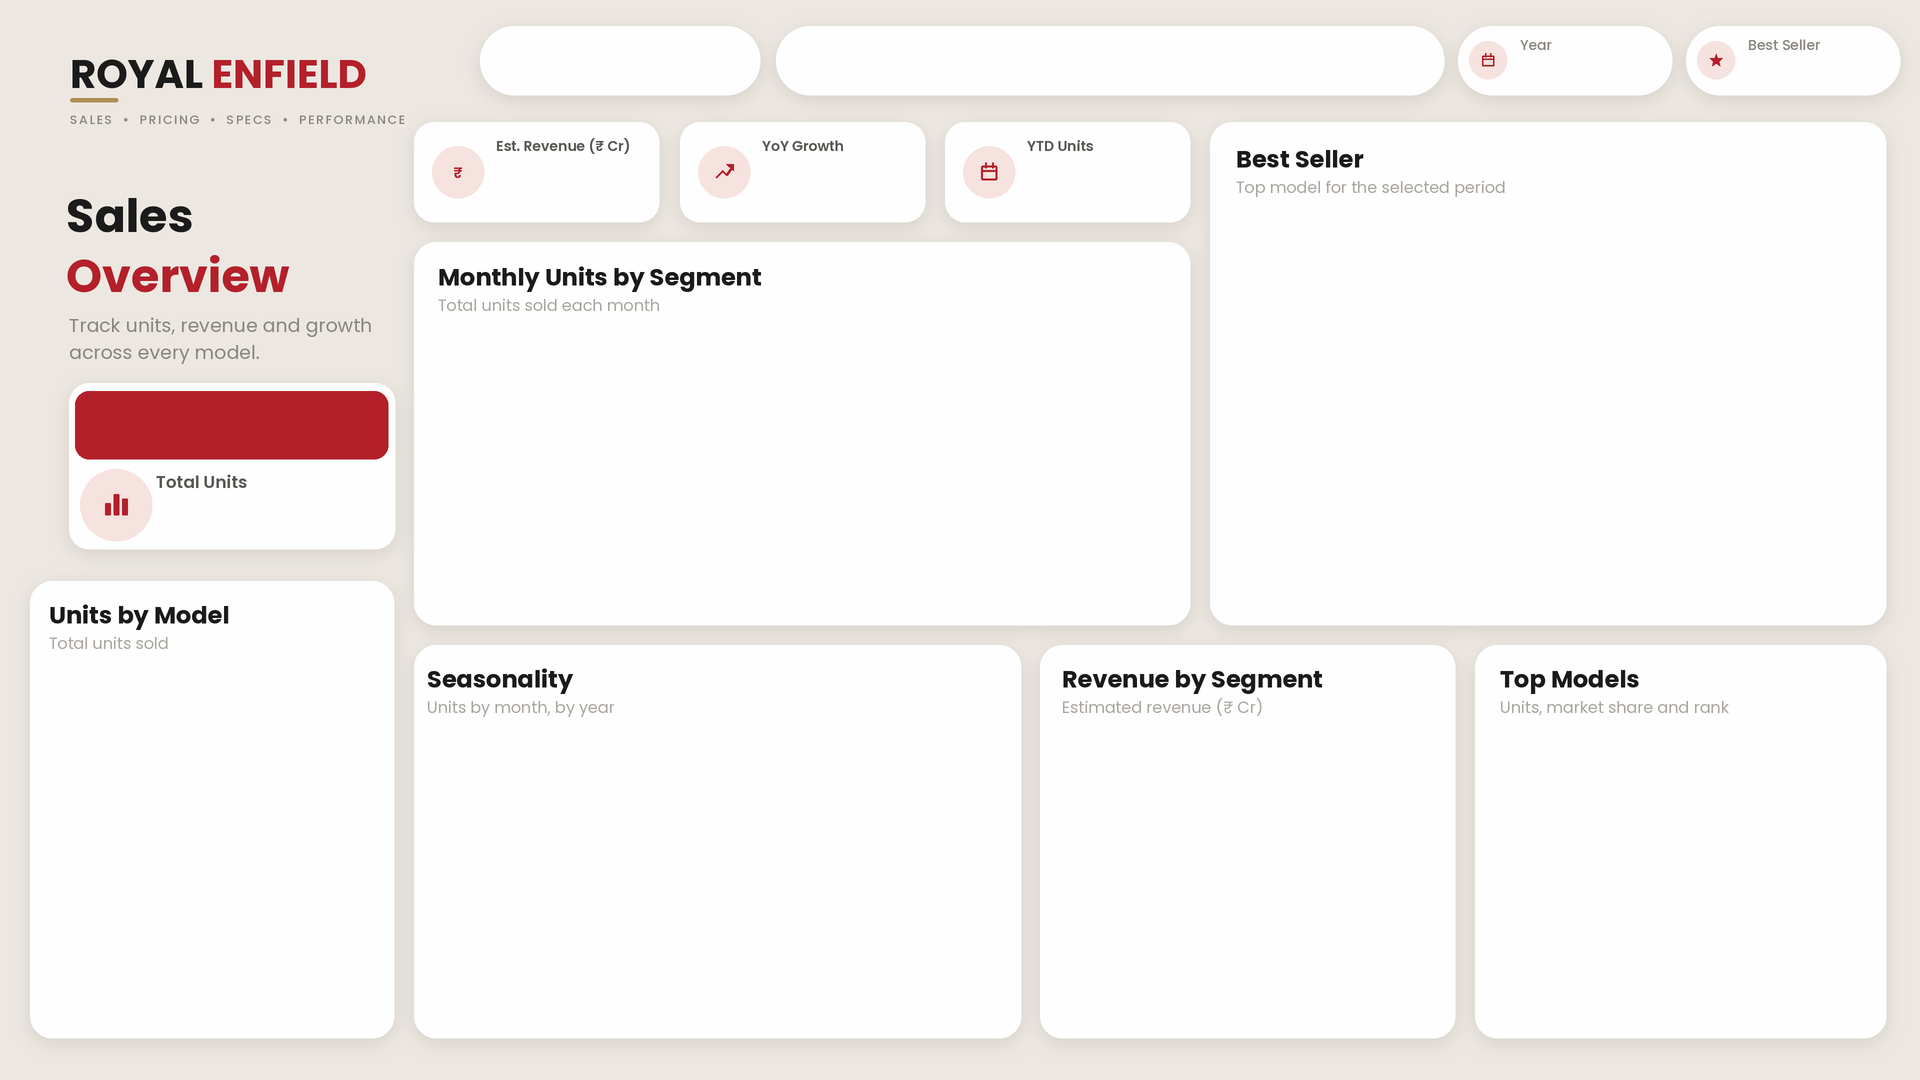

The dashboard page shown, as its layout file describes it:
{"tool":"powerbi","page":{"name":"Sales","canvas":[1920,1080],"ordinal":0},"visuals":[{"type":"pageNavigator","box":[486.8,28.6,268,57],"z":0},{"type":"slicer","fields":{"Values":["Dim_Date.Year"]},"box":[1508,49.3,154.6,42],"z":1000},{"type":"cardVisual","fields":{"Data":["Fact_Sales.Total Units"]},"box":[75.5,386.5,313,68],"z":2000},{"type":"advancedSlicerVisual","fields":{"Values":["Dim_Bike.Segment"]},"box":[782.2,33.1,655.2,46],"z":3000},{"type":"cardVisual","fields":{"Data":["Fact_Sales.Top Model"]},"box":[1737.5,50,142.5,36.2],"z":4000},{"type":"cardVisual","fields":{"Data":["Fact_Sales.Est Revenue Cr"]},"box":[486.2,155,158,52],"z":5000},{"type":"cardVisual","fields":{"Data":["Fact_Sales.YoY %"]},"box":[753.8,155,158,52],"z":6000},{"type":"cardVisual","fields":{"Data":["Fact_Sales.YTD Units"]},"box":[1018.8,155,158,52],"z":7000},{"type":"lineChart","fields":{"Category":["Fact_Sales.Month"],"Series":["Dim_Bike.Segment"],"Y":["Fact_Sales.Total Units"]},"box":[427.5,317.5,748,293],"z":8000},{"type":"image","box":[1250,207.5,610,332.5],"z":9000},{"type":"cardVisual","fields":{"Data":["Fact_Sales.Top Model"]},"box":[1258,540,596,50],"z":10000},{"type":"clusteredColumnChart","fields":{"Category":["Dim_Date.Month"],"Series":["Dim_Date.Year"],"Y":["Fact_Sales.Total Units"]},"box":[427,647.9,579.8,373.6],"z":11000},{"type":"donutChart","fields":{"Category":["Dim_Bike.Segment"],"Y":["Fact_Sales.Est Revenue Cr"]},"box":[1056,725,385,305],"z":12000},{"type":"tableEx","fields":{"Values":["Dim_Bike.Model","Fact_Sales.Total Units","Fact_Sales.Market Share"]},"box":[1474.2,710.4,404.9,320.2],"z":13000},{"type":"clusteredBarChart","fields":{"Category":["Dim_Bike.Model"],"Y":["Fact_Sales.Total Units"]},"box":[45,662,334,365],"z":14000}]}

Visuals, with their boxes in screenshot pixels (x1, y1, x2, y2), scaled from the page's 1920x1080 canvas onto the 1920x1080 screenshot:
pageNavigator: detection(487, 29, 755, 86)
slicer - Dim_Date.Year: detection(1508, 49, 1663, 91)
cardVisual - Fact_Sales.Total Units: detection(76, 386, 388, 454)
advancedSlicerVisual - Dim_Bike.Segment: detection(782, 33, 1437, 79)
cardVisual - Fact_Sales.Top Model: detection(1738, 50, 1880, 86)
cardVisual - Fact_Sales.Est Revenue Cr: detection(486, 155, 644, 207)
cardVisual - Fact_Sales.YoY %: detection(754, 155, 912, 207)
cardVisual - Fact_Sales.YTD Units: detection(1019, 155, 1177, 207)
lineChart - Fact_Sales.Month x Dim_Bike.Segment: detection(428, 318, 1176, 610)
image: detection(1250, 208, 1860, 540)
cardVisual - Fact_Sales.Top Model: detection(1258, 540, 1854, 590)
clusteredColumnChart - Dim_Date.Month x Dim_Date.Year: detection(427, 648, 1007, 1022)
donutChart - Dim_Bike.Segment x Fact_Sales.Est Revenue Cr: detection(1056, 725, 1441, 1030)
tableEx - Dim_Bike.Model x Fact_Sales.Total Units: detection(1474, 710, 1879, 1031)
clusteredBarChart - Dim_Bike.Model x Fact_Sales.Total Units: detection(45, 662, 379, 1027)
